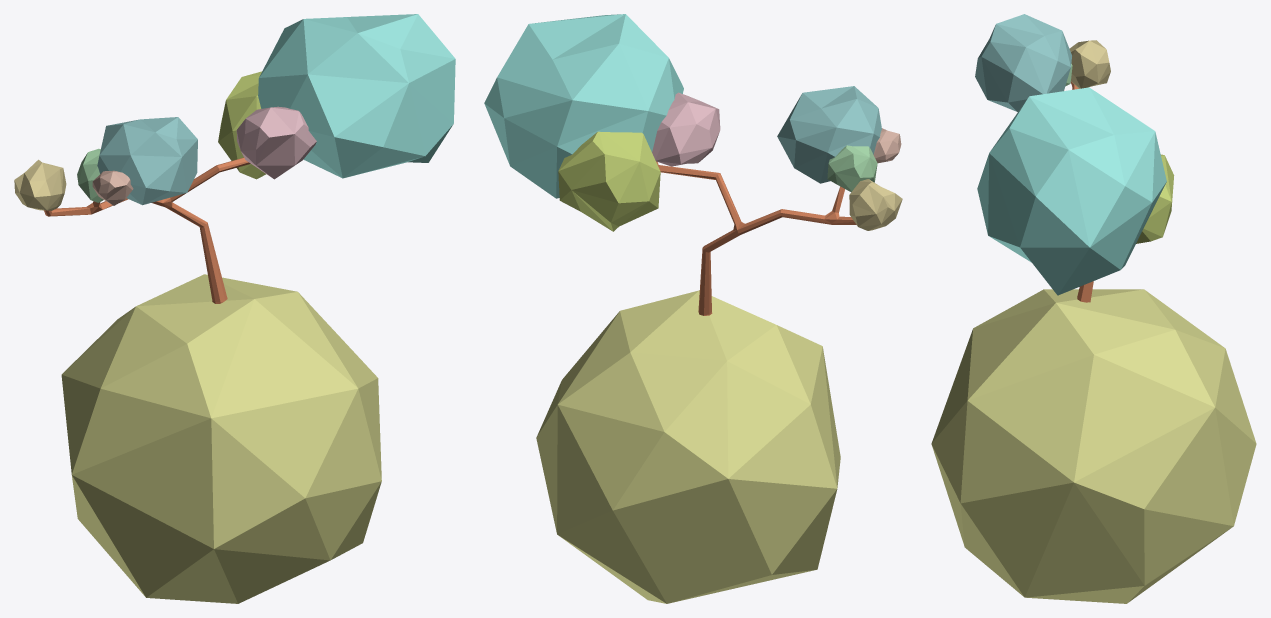
File: lowpolyworld.fbx
3 renders of one model, left to right at view 1: azimuth 30°, elevation 25°; view 2: azimuth 150°, elevation 25°; view 3: azimuth 270°, elevation 25°, orthographic. The views are drawn at different scales.
Parts seen in each view (by area): view 1: Icosphere.001; view 2: Icosphere.001; view 3: Icosphere.001.
Part boxes in pixels (bbox=[...]): Icosphere.001: bbox=[14, 14, 455, 603]; Icosphere.001: bbox=[484, 14, 902, 603]; Icosphere.001: bbox=[931, 14, 1256, 603].
Bounding box in the file's own units: 295 × 368 × 200.
